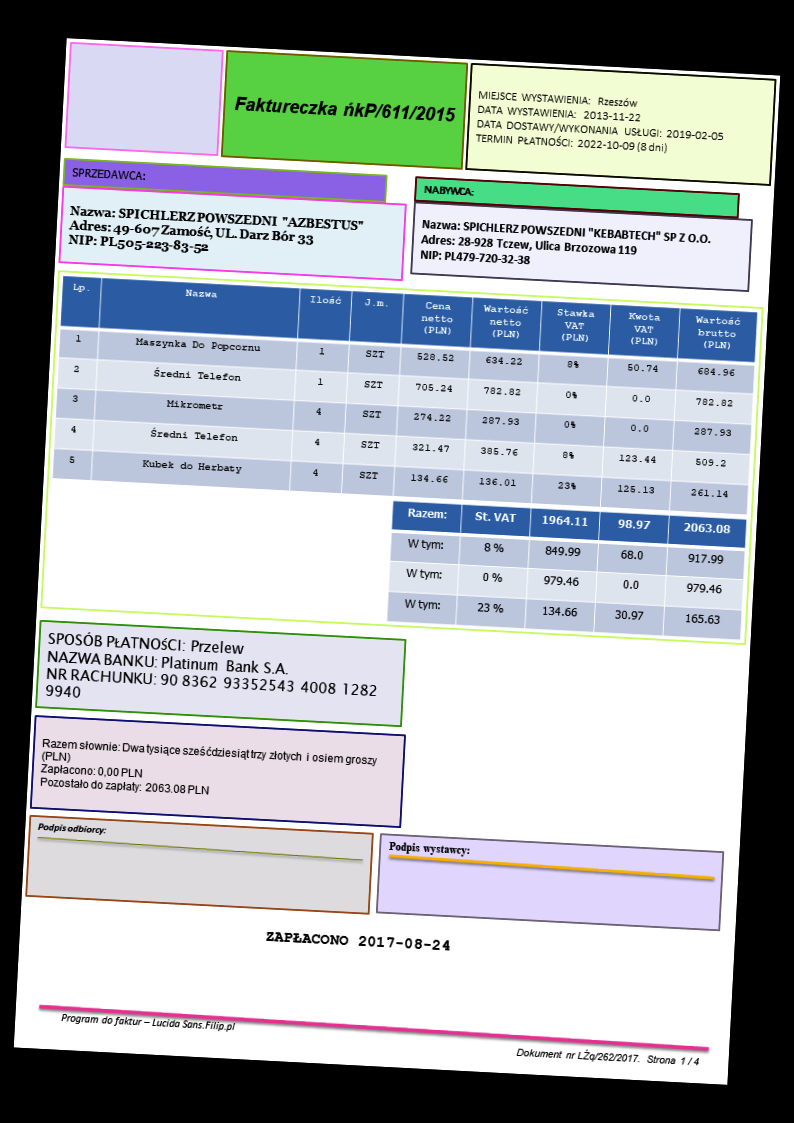Table: (50, 273, 760, 517), (383, 498, 750, 641)
TextBox: (41, 626, 386, 719), (36, 733, 384, 808), (64, 199, 366, 267), (416, 213, 717, 281), (472, 84, 732, 161), (231, 89, 459, 129), (510, 1041, 705, 1074), (262, 926, 454, 956), (55, 1007, 240, 1037), (384, 835, 473, 863), (66, 161, 147, 186), (30, 816, 108, 841), (420, 179, 476, 201)
